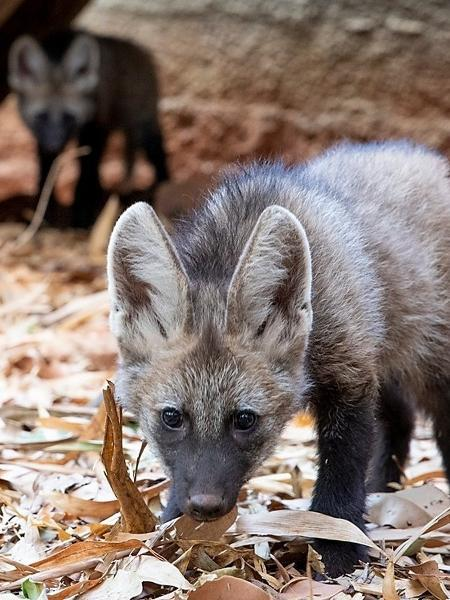LoboGuara: (87, 141, 447, 583), (10, 25, 179, 201)
